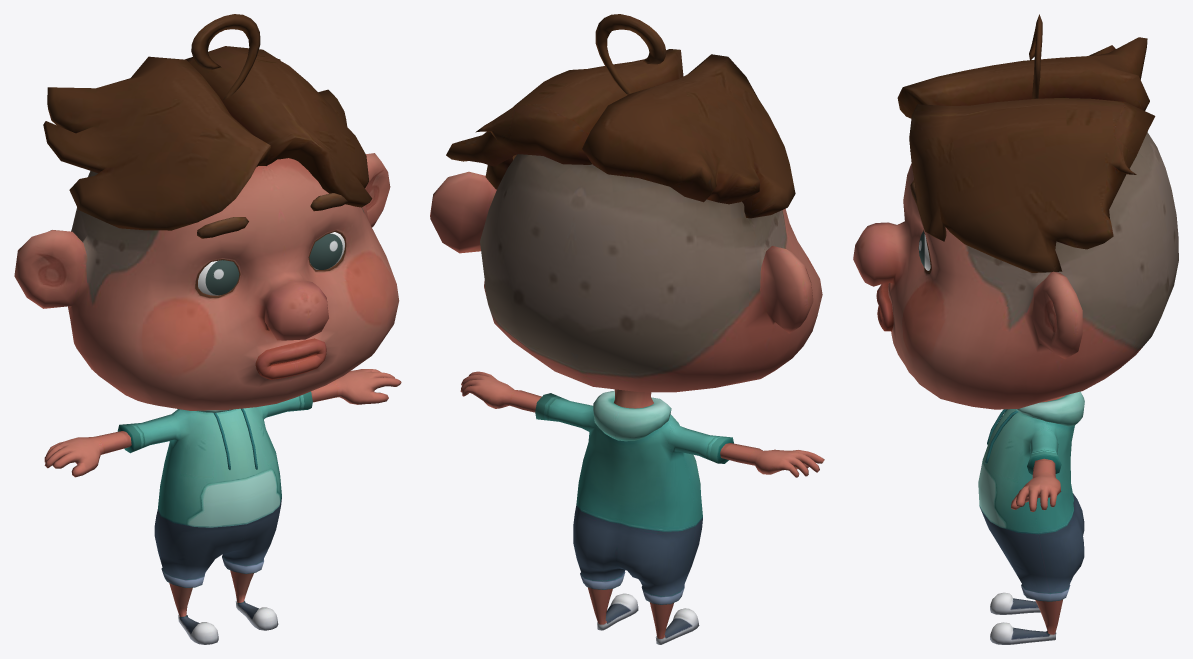
The model's file is 英语-角色-Bobby.FBX.
The picture shows the model from 3 angles, left to right: view 1: azimuth 30°, elevation 25°; view 2: azimuth 150°, elevation 25°; view 3: azimuth 270°, elevation 25°; orthographic projection. The views are drawn at different scales.
Visible parts, largest first — view 1: 英语-角色-Bobby; view 2: 英语-角色-Bobby; view 3: 英语-角色-Bobby.
Part boxes in pixels (box(x1,y1,x2,y2)): 英语-角色-Bobby: box(14, 14, 401, 644); 英语-角色-Bobby: box(430, 14, 824, 644); 英语-角色-Bobby: box(853, 14, 1178, 644).
Size of the model in its own units: 51.28 by 79.41 by 38.44.
2 materials, 2 textured.
